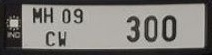character: (142, 14, 159, 42), (160, 14, 177, 42), (125, 15, 141, 43), (57, 29, 67, 48), (45, 29, 56, 46), (72, 7, 83, 24), (43, 6, 53, 24), (32, 6, 42, 23), (61, 7, 71, 24)
